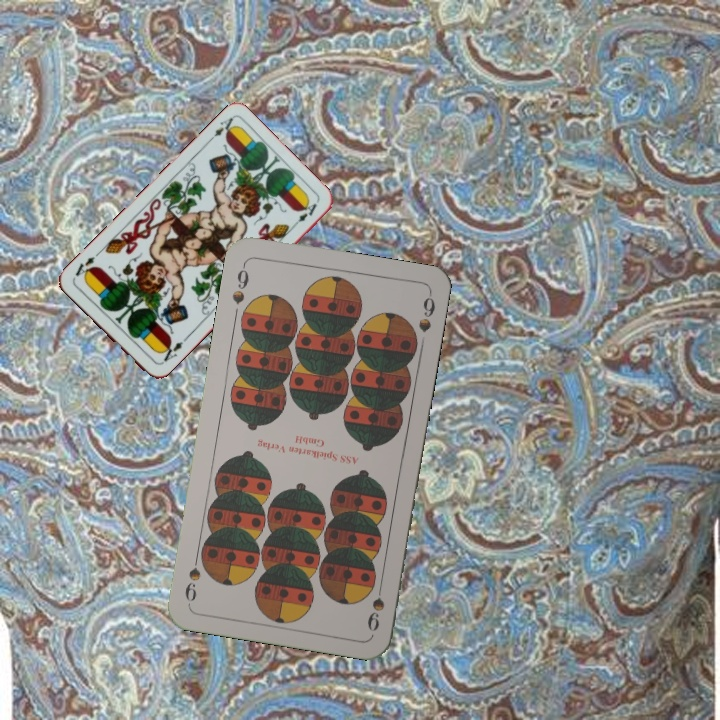EA: (203, 113, 239, 146), (155, 334, 189, 367)
S9: (363, 575, 387, 633), (228, 259, 252, 307)
